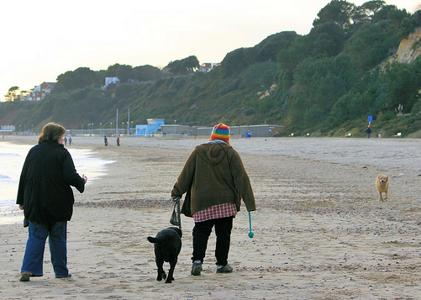person: (170, 125, 255, 275)
